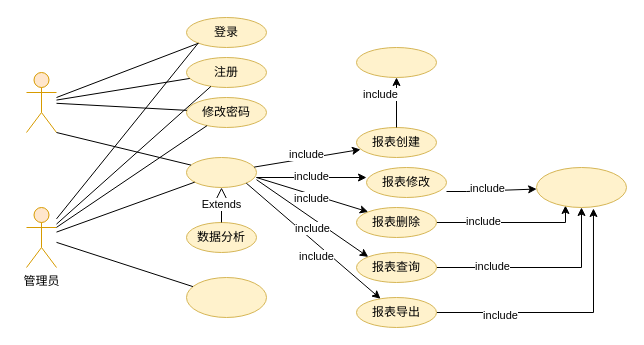
Some shapes in this 644 by 345 pixel diagram are drawn without their labels. The box of each missing label's shape, as (x1, y1, x2, y2) in pixels:
报表管理: (186, 156, 256, 188)
数据导入: (356, 46, 436, 78)
普通用户: (26, 72, 56, 132)
用户权限管理: (186, 276, 266, 318)
用户权限验证: (536, 166, 626, 208)
